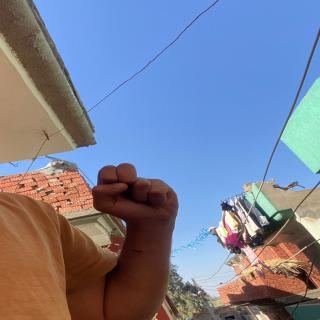QAAF: (84, 162, 194, 228)
